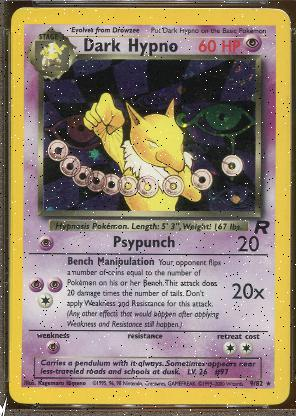Card: (9, 5, 293, 406)
